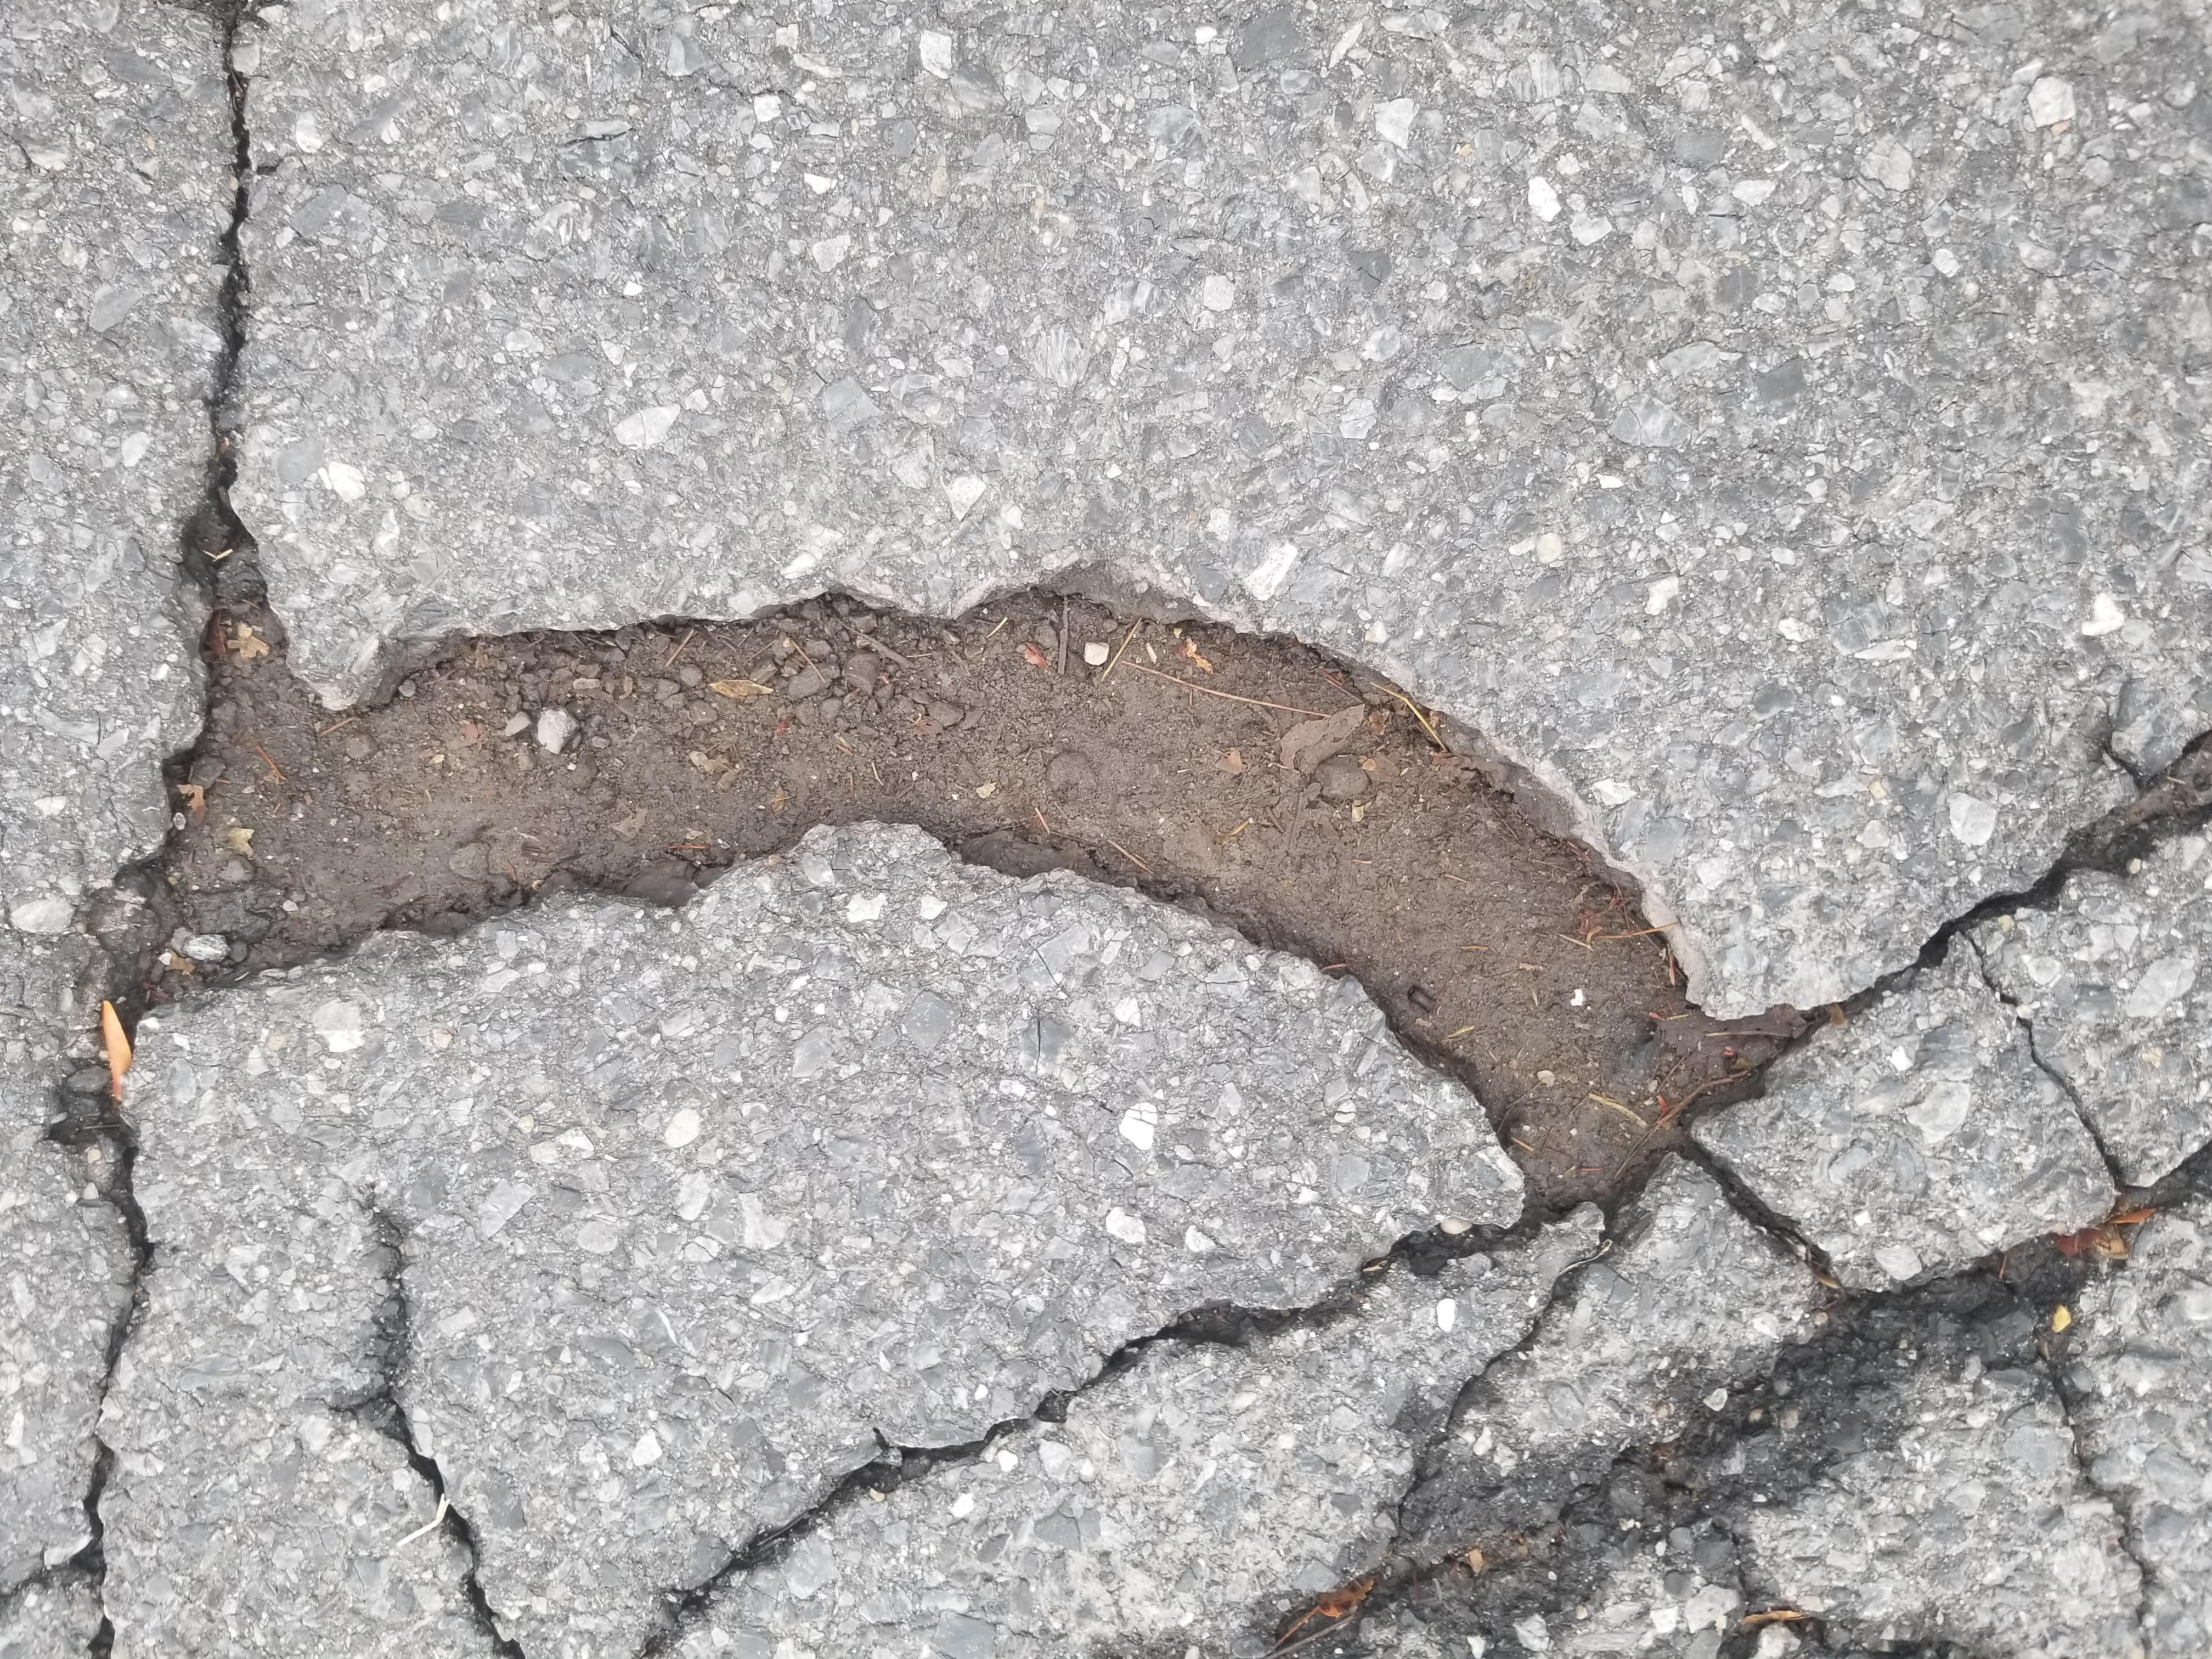crack: (24, 934, 650, 1659), (38, 464, 641, 1192), (0, 242, 617, 396), (0, 0, 705, 124), (1534, 139, 2212, 207)
pothole: (650, 82, 1543, 1274)
